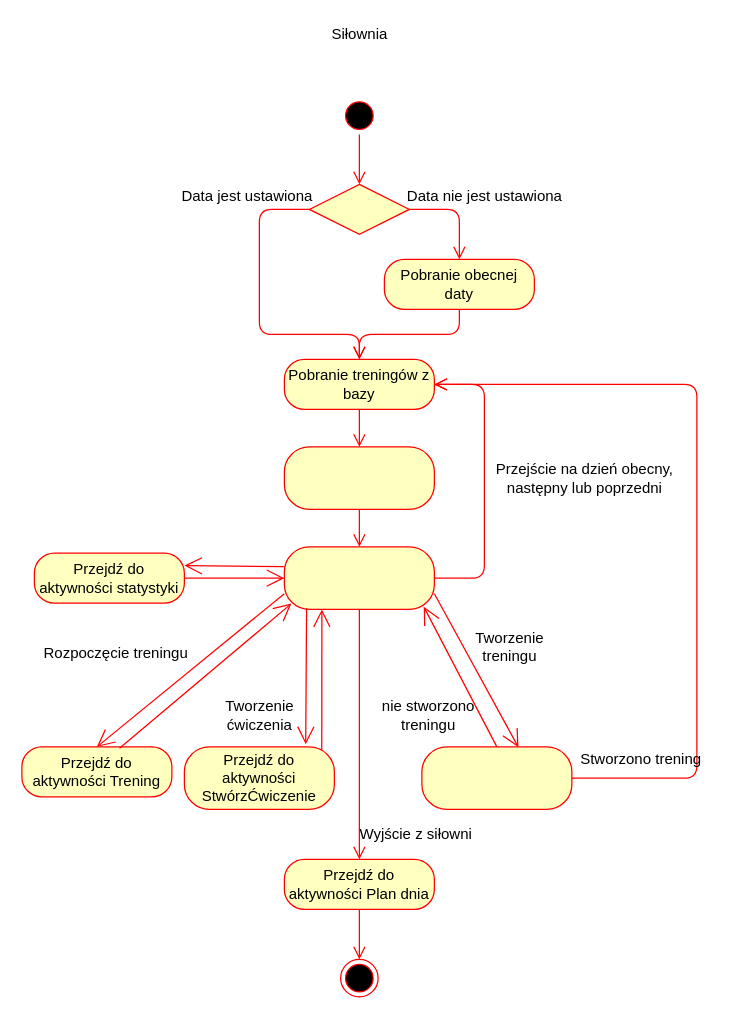
Some shapes in this 731 by 1019 pixel diagram are drawn without their labels. Each missing label, with the box of its shape:
Przejdź do aktywności StwórzTrening: (421, 746, 572, 809)
Stworzenie widoków treningów ustawionego dnia: (283, 446, 434, 509)
Wyświetlenie stworzonych wydarzeń: (283, 546, 434, 609)
